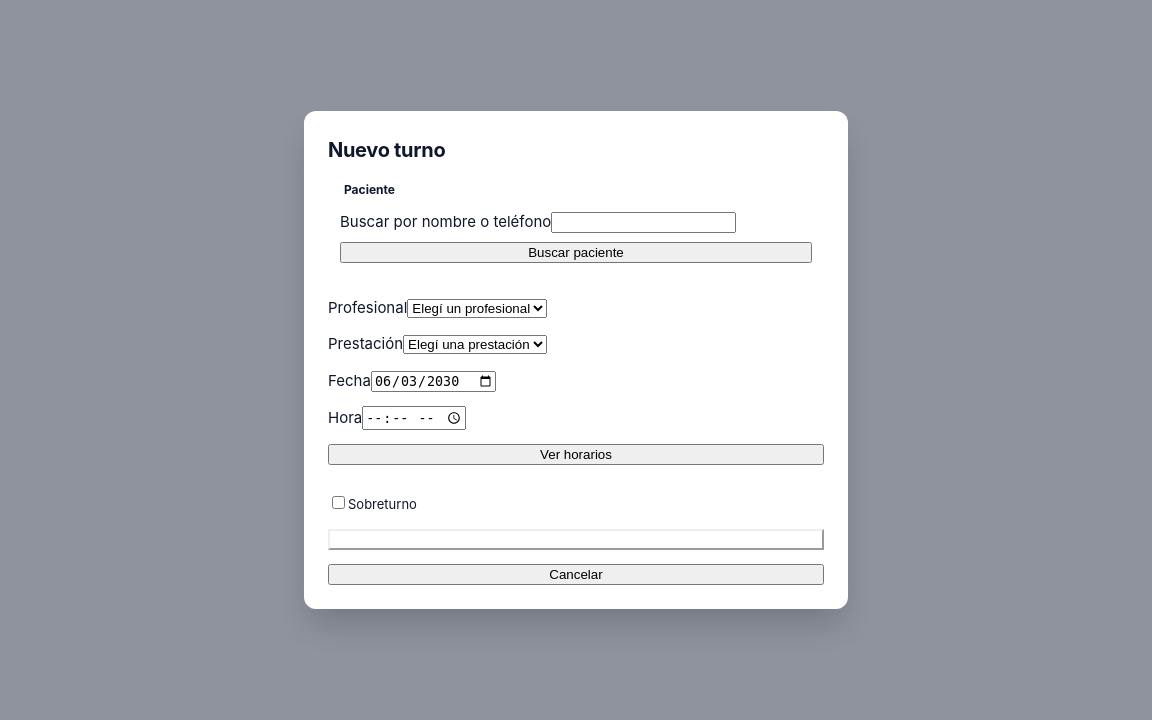
Test case: alta interna de turno › ofrece los huecos del motor y completa la hora
The width and height of the screenshot is (1152, 720).
Select "Dra. Martina" in the dropdown labelled "Profesional": (477,308) [407,299,547,318]
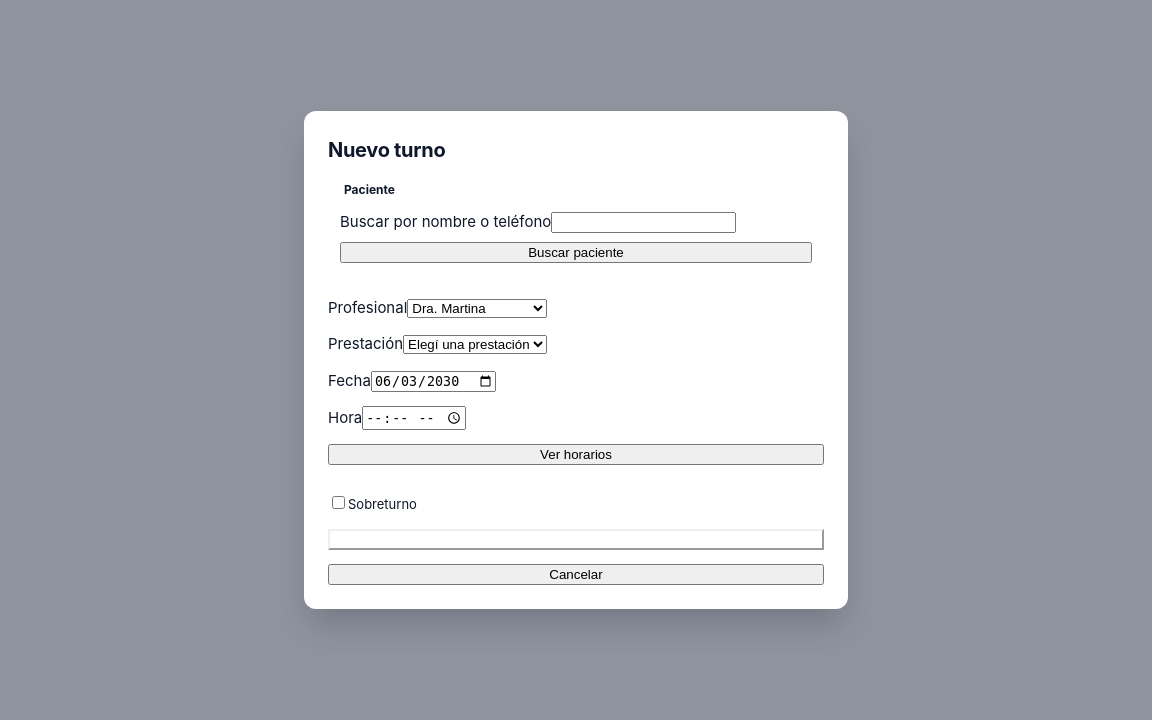
Select "Consulta (30 min)" in the dropdown labelled "Prestación": (475,345) [403,335,547,354]
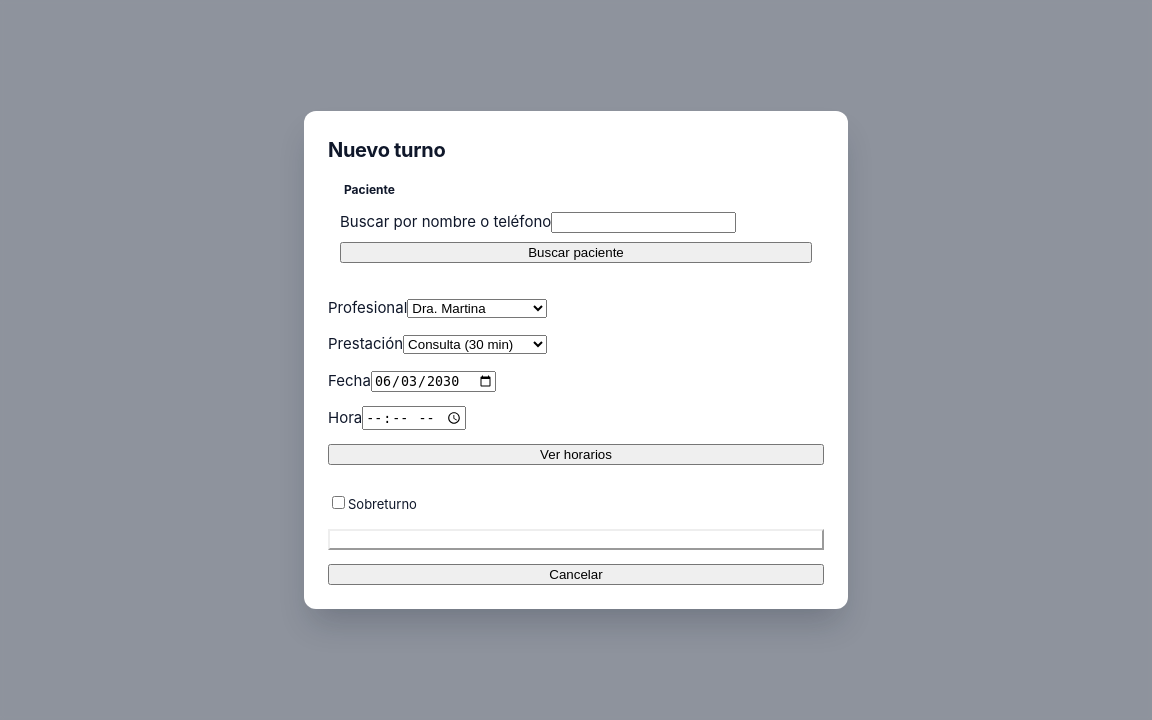
Click the button "Ver horarios": (576,455) [328,444,824,465]
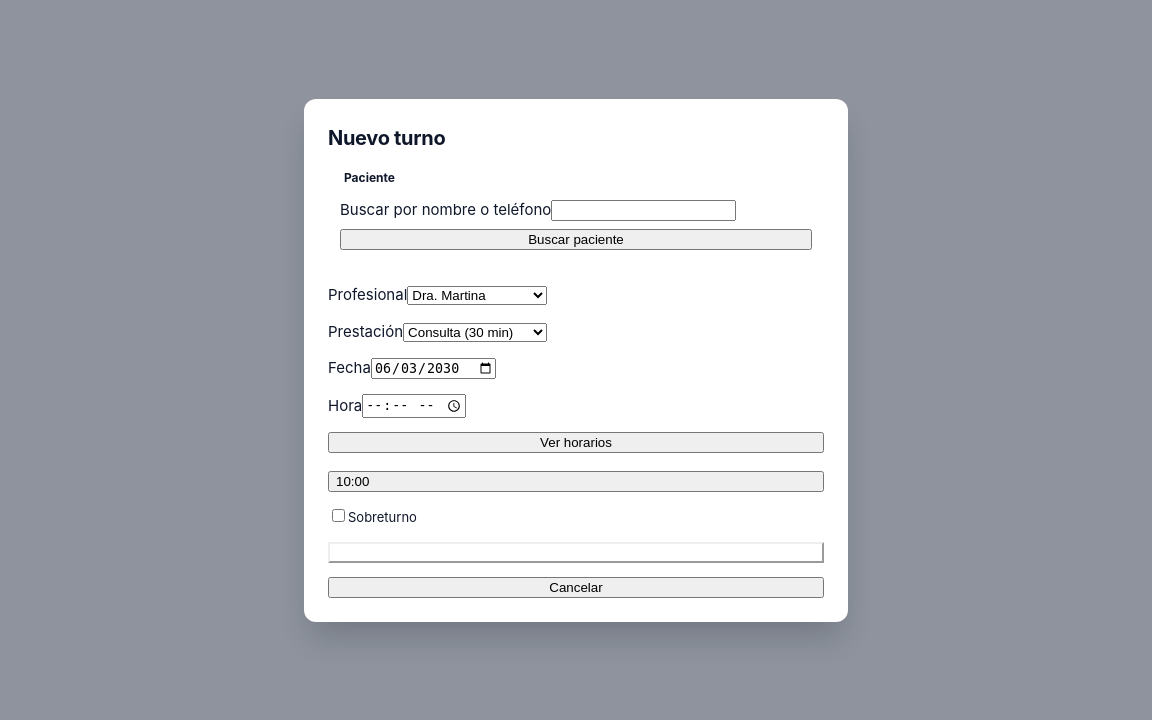
Click the button "10:00": (353,481) [328,470,824,492]
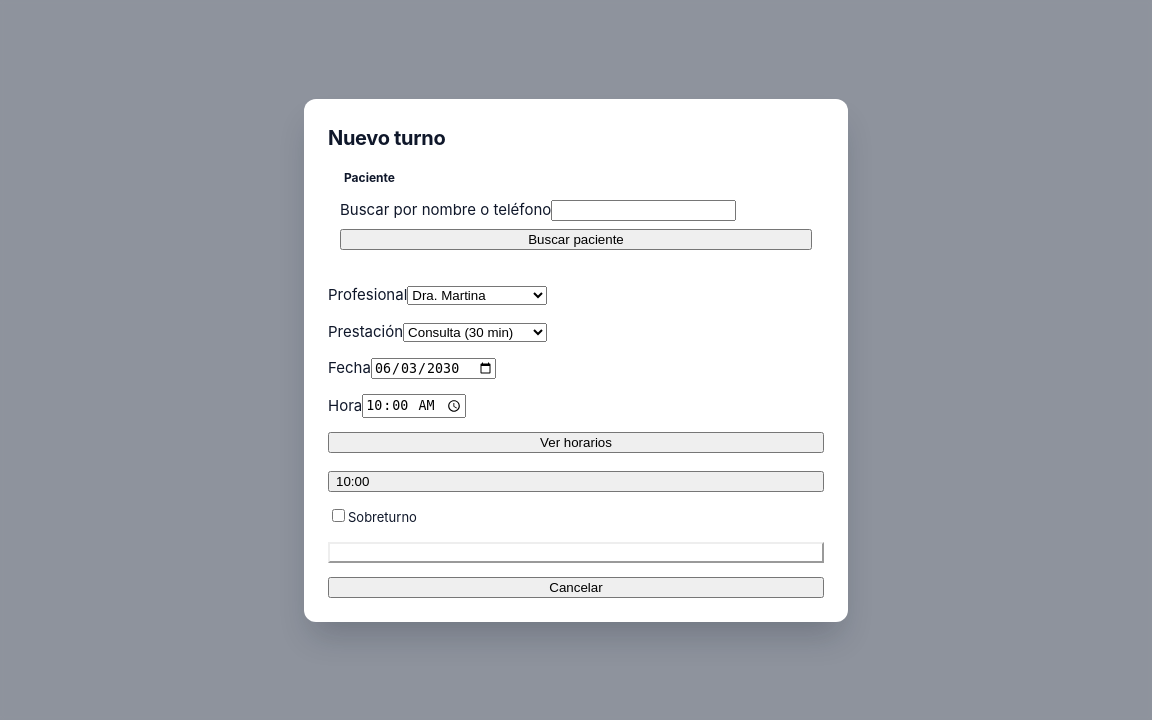
Expected: the time field labelled "Hora" holds "10:00", [362,394,466,418]
